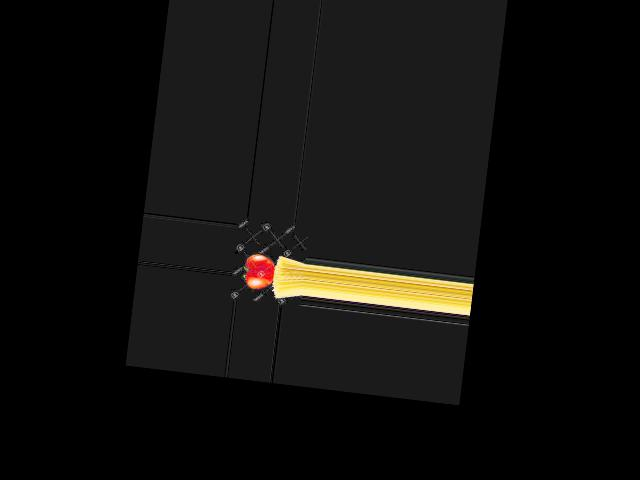tomato: (243, 253, 276, 291)
